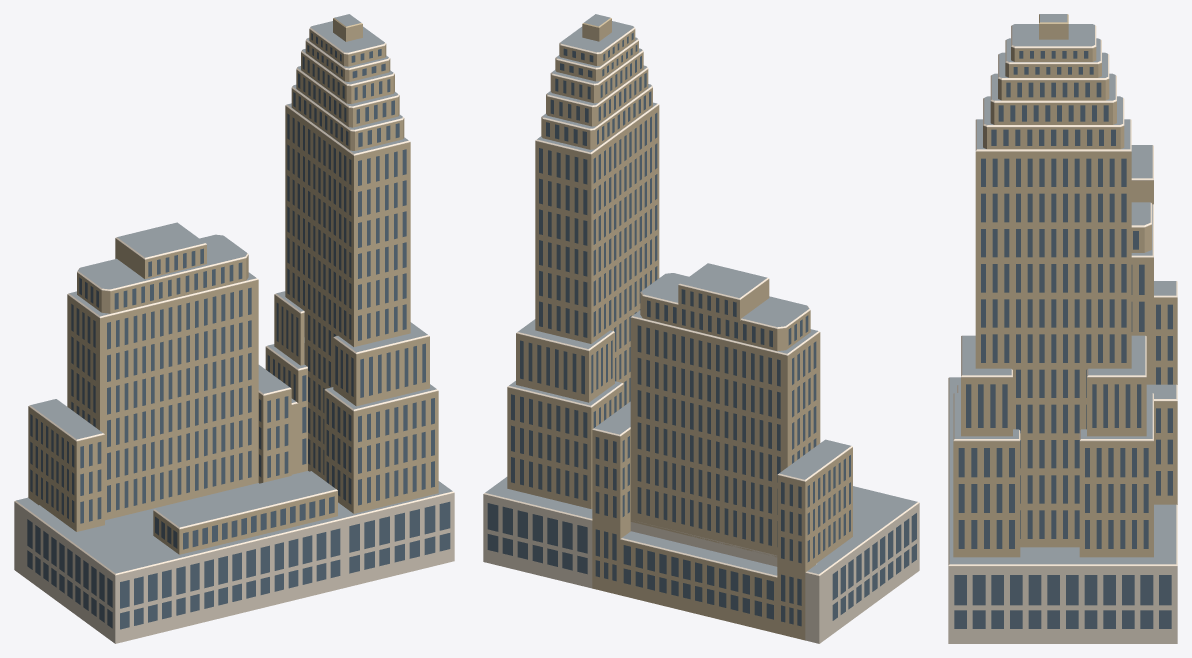
Rendered from cin-carew-tower.glb.
The picture shows the model from 3 angles, left to right: view 1: azimuth 30°, elevation 25°; view 2: azimuth 150°, elevation 25°; view 3: azimuth 270°, elevation 25°; orthographic projection. The views are drawn at different scales.
Parts seen in each view (by area): view 1: Carew Tower; view 2: Carew Tower; view 3: Carew Tower.
Boxes of the visible parts, x1,y1,x2,y2 form: Carew Tower: (14,14,454,643); Carew Tower: (483,14,919,643); Carew Tower: (948,14,1177,643).
Size of the model in its own units: 120 by 176 by 61.9.
